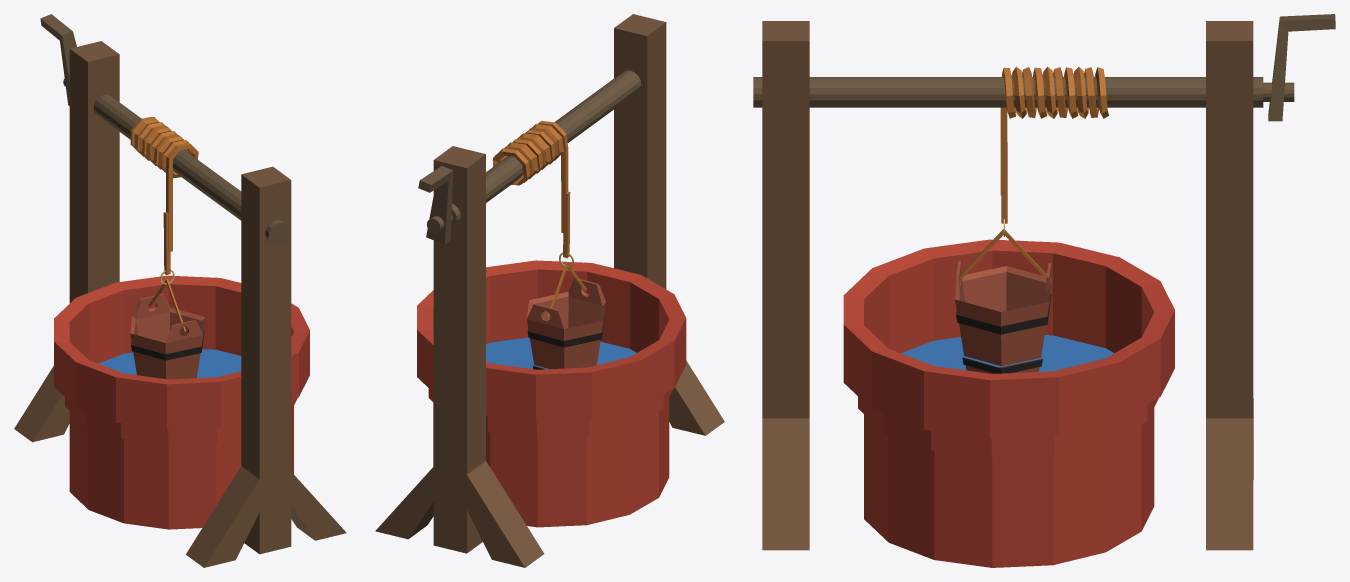
File: put.fbx
3 renders of one model, left to right at view 1: azimuth 30°, elevation 25°; view 2: azimuth 150°, elevation 25°; view 3: azimuth 270°, elevation 25°, orthographic. The views are drawn at different scales.
Visible parts, largest first — view 1: Put, Palen, Poten, Emmer, Cilinder, Touw, Hendel; view 2: Put, Palen, Poten, Emmer, Cilinder, Touw, Hendel; view 3: Put, Palen, Poten, Cilinder, Emmer, Touw, Hendel.
Boxes of the visible parts, x1,y1,x2,y2 form: Put: (54, 275, 309, 529); Palen: (69, 41, 291, 554); Poten: (14, 366, 346, 567); Emmer: (130, 212, 205, 379); Cilinder: (63, 78, 289, 244); Touw: (130, 117, 198, 252); Hendel: (40, 14, 76, 105); Put: (417, 260, 686, 527); Palen: (433, 14, 666, 553); Poten: (375, 361, 724, 567); Emmer: (527, 191, 605, 369); Cilinder: (427, 70, 641, 233); Touw: (492, 120, 568, 232); Hendel: (418, 166, 453, 244); Put: (843, 239, 1174, 567); Palen: (762, 21, 1253, 418); Poten: (762, 398, 1253, 550); Cilinder: (753, 77, 1294, 107); Emmer: (955, 142, 1052, 373); Touw: (1000, 66, 1108, 195); Hendel: (1268, 14, 1335, 121).
Size of the model in its own units: 175 by 281 by 305.
